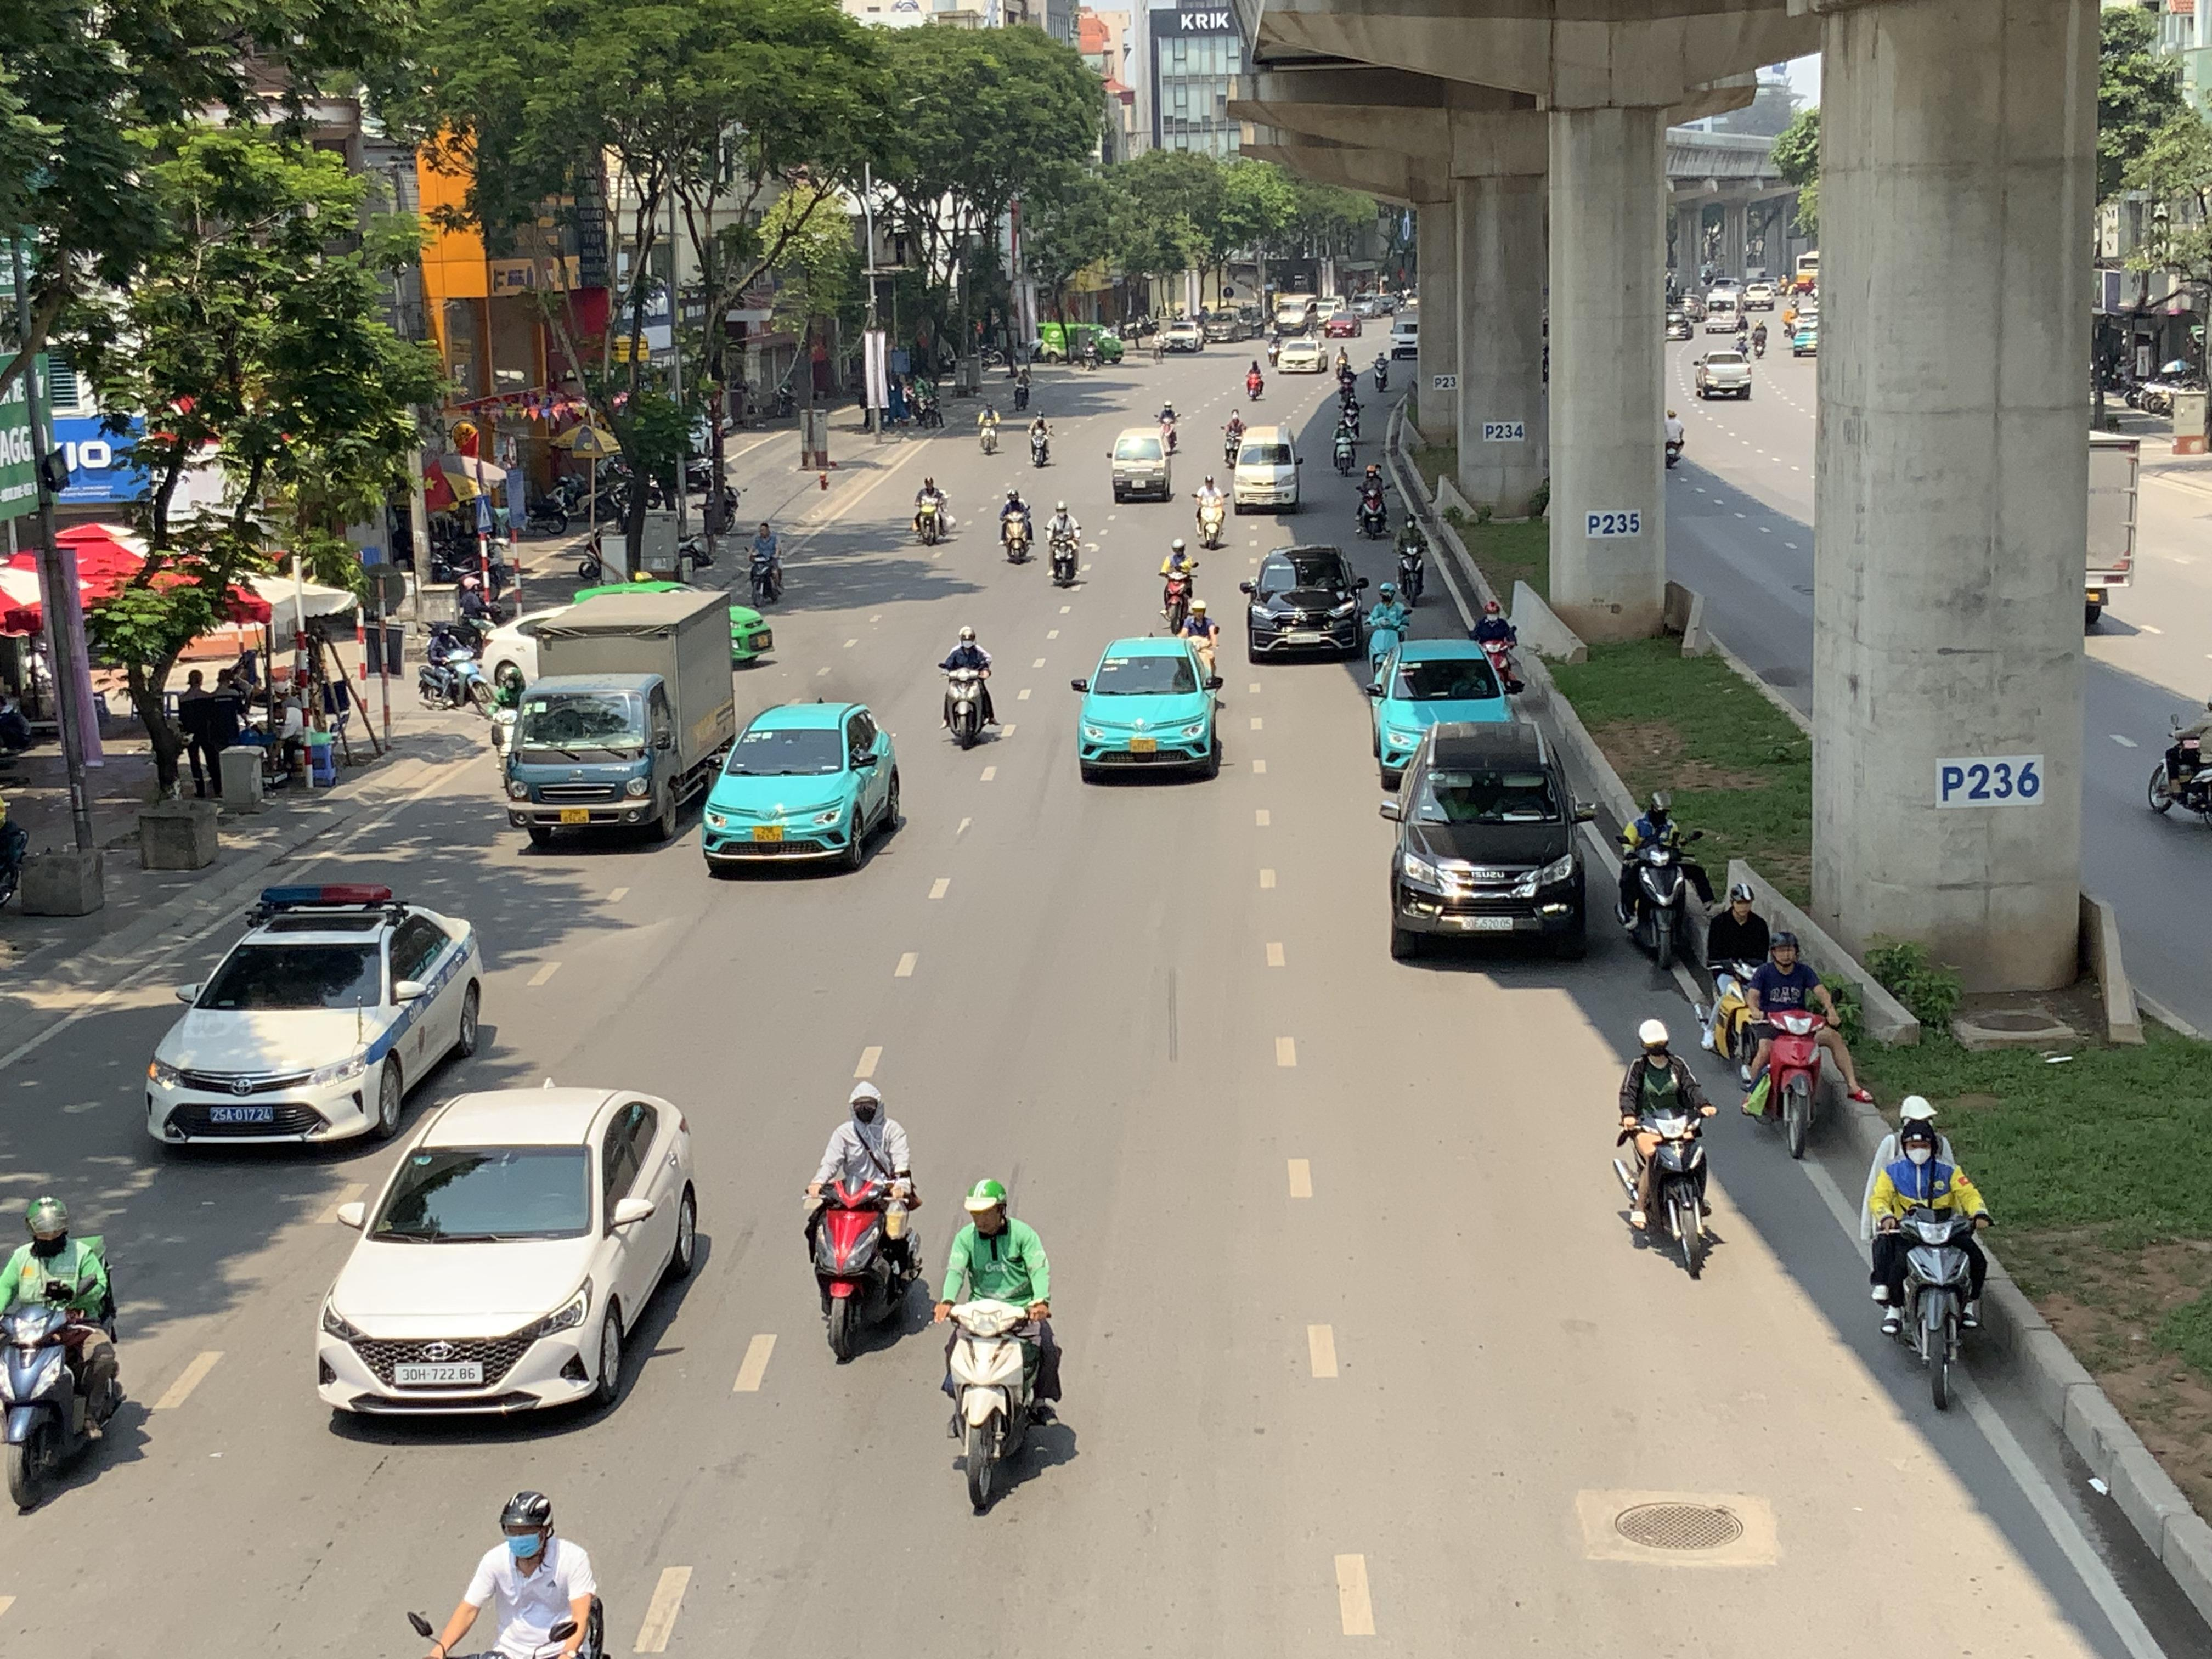BSD: (394, 1363, 484, 1384), (211, 1105, 273, 1122), (1463, 917, 1514, 931)
BSV: (559, 809, 590, 824), (752, 826, 784, 842), (1130, 739, 1157, 753)
car: (314, 1084, 707, 1429), (143, 885, 484, 1150), (1379, 714, 1595, 962), (700, 701, 906, 877), (1071, 634, 1228, 782), (1364, 638, 1521, 784), (1240, 544, 1369, 662), (1226, 425, 1305, 514), (1108, 429, 1176, 502), (1693, 350, 1754, 399), (1275, 335, 1331, 373), (1157, 319, 1205, 356)
motorbike: (934, 1176, 1062, 1516), (1865, 1096, 1993, 1413), (0, 1195, 125, 1514), (803, 1080, 928, 1366), (411, 1490, 608, 1659), (1615, 1018, 1721, 1281), (1737, 929, 1850, 1159), (1615, 789, 1712, 979), (1698, 882, 1773, 1070), (2148, 685, 2212, 833), (939, 626, 998, 749), (416, 624, 489, 713), (1468, 592, 1524, 697), (1362, 580, 1413, 687), (1177, 599, 1224, 681), (1158, 538, 1198, 631), (1393, 512, 1432, 606), (747, 519, 786, 606), (911, 472, 956, 545), (1047, 500, 1083, 587), (1191, 472, 1230, 549), (998, 484, 1035, 563), (1353, 460, 1390, 538), (1331, 415, 1360, 477), (1028, 411, 1054, 467), (1155, 401, 1181, 455), (1221, 411, 1247, 465), (975, 403, 1000, 458)
truck: (493, 580, 738, 847)
